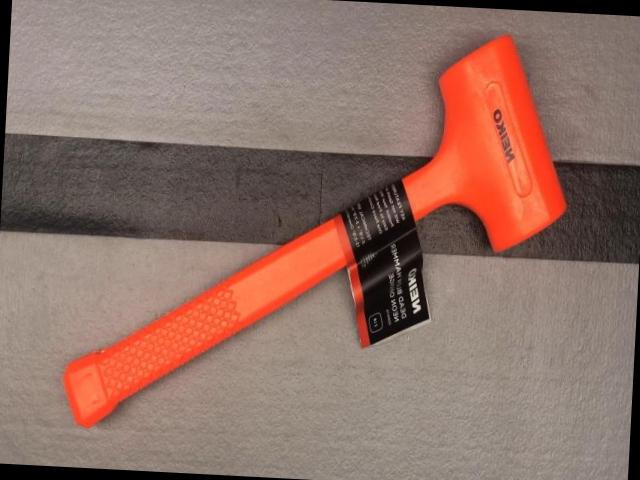hammer: (58, 15, 576, 450)
